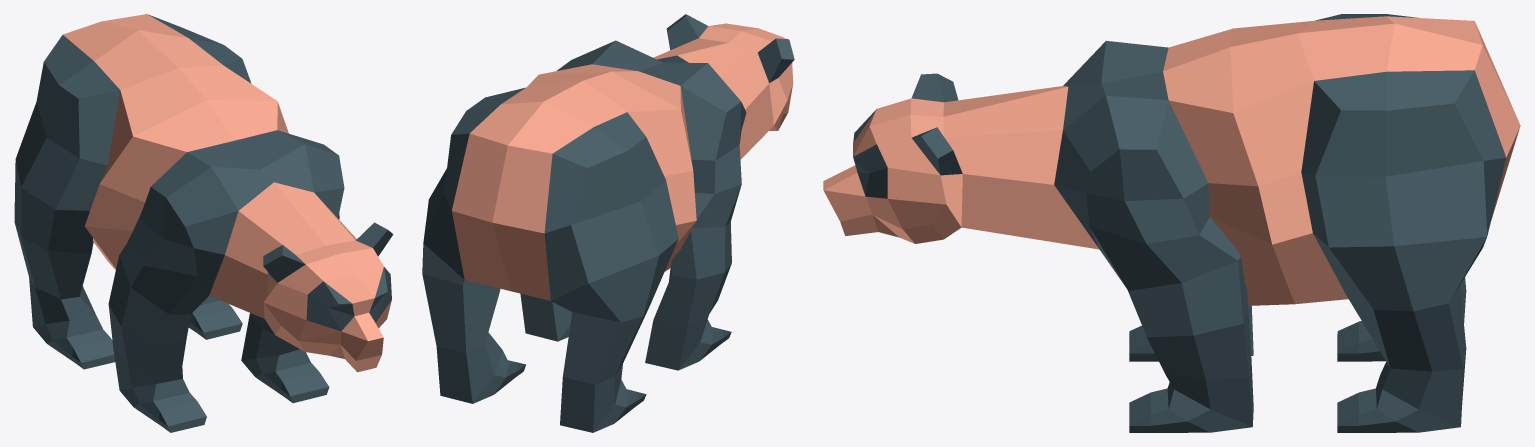
File: animal_018.fbx
3 views of the same model, side by side, from view 1: azimuth 30°, elevation 25°; view 2: azimuth 150°, elevation 25°; view 3: azimuth 270°, elevation 25° (orthographic). The views are drawn at different scales.
Visible parts, largest first — view 1: animal.018; view 2: animal.018; view 3: animal.018.
Boxes of the visible parts, <box> form: animal.018: <box>14,14,393,432</box>; animal.018: <box>422,14,794,432</box>; animal.018: <box>823,14,1520,432</box>.
Size of the model in its own units: 286 by 353 by 613.
1 material, 1 textured.
